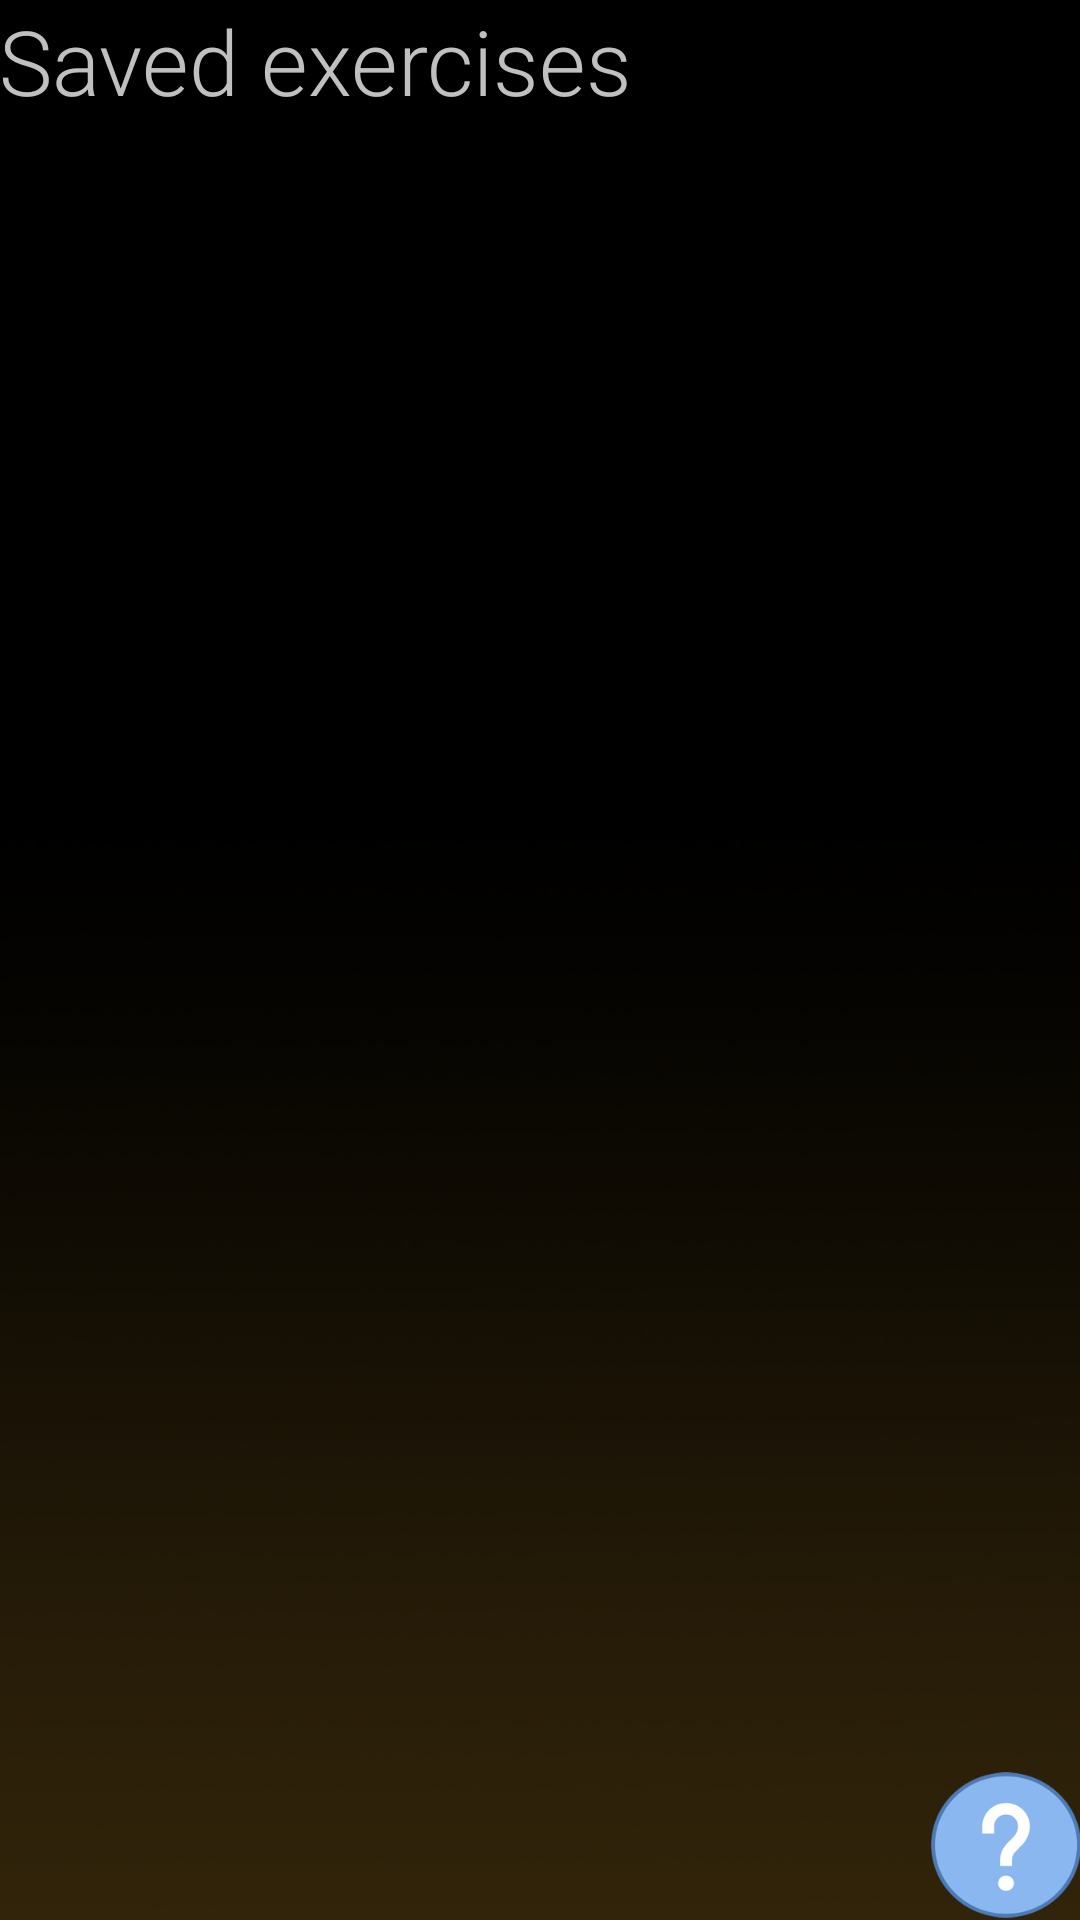

Locate icon controls on the screen. Image size 1080 x 1920, boxes as (x1, y1, x2, y2).
help: (931, 1772, 1080, 1918)
